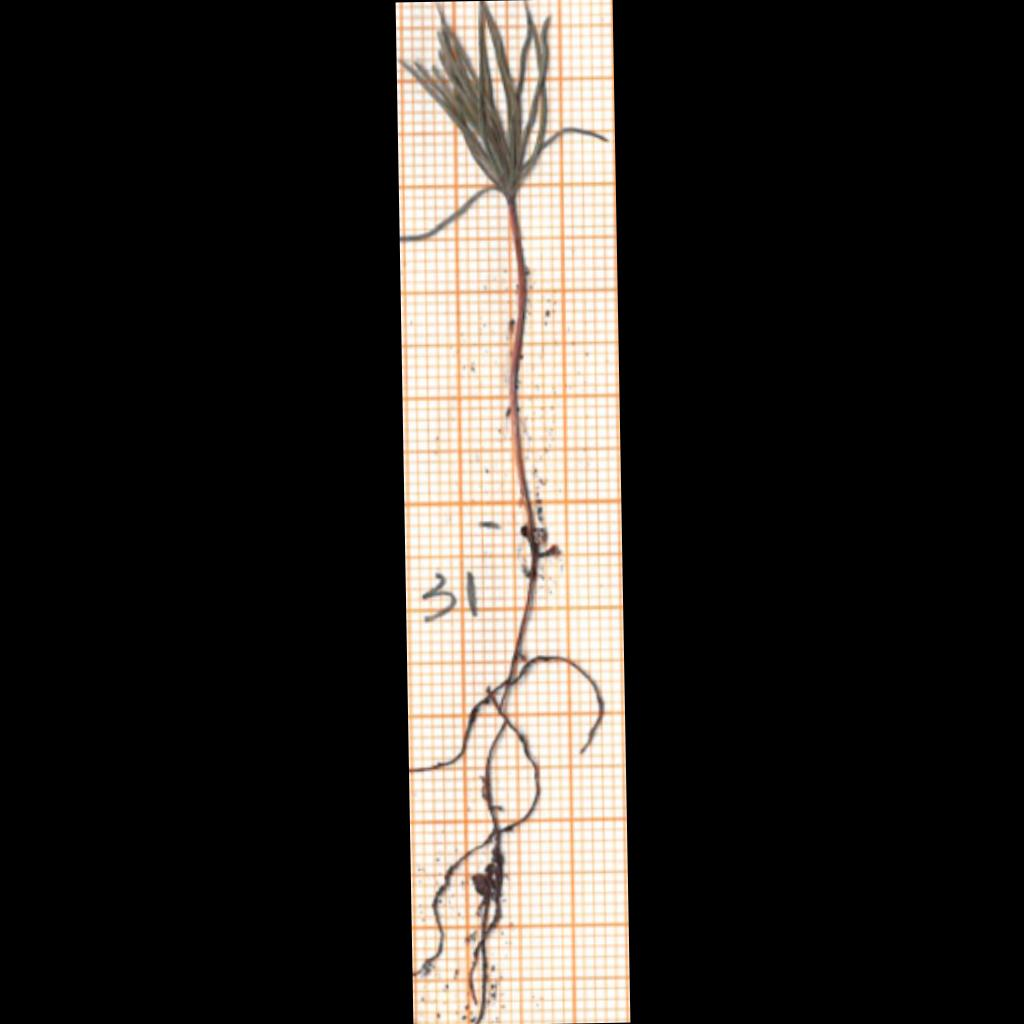flowerPinus: (399, 1, 560, 241)
rootPinus: (409, 545, 604, 1023)
stemPinus: (508, 201, 535, 554)
